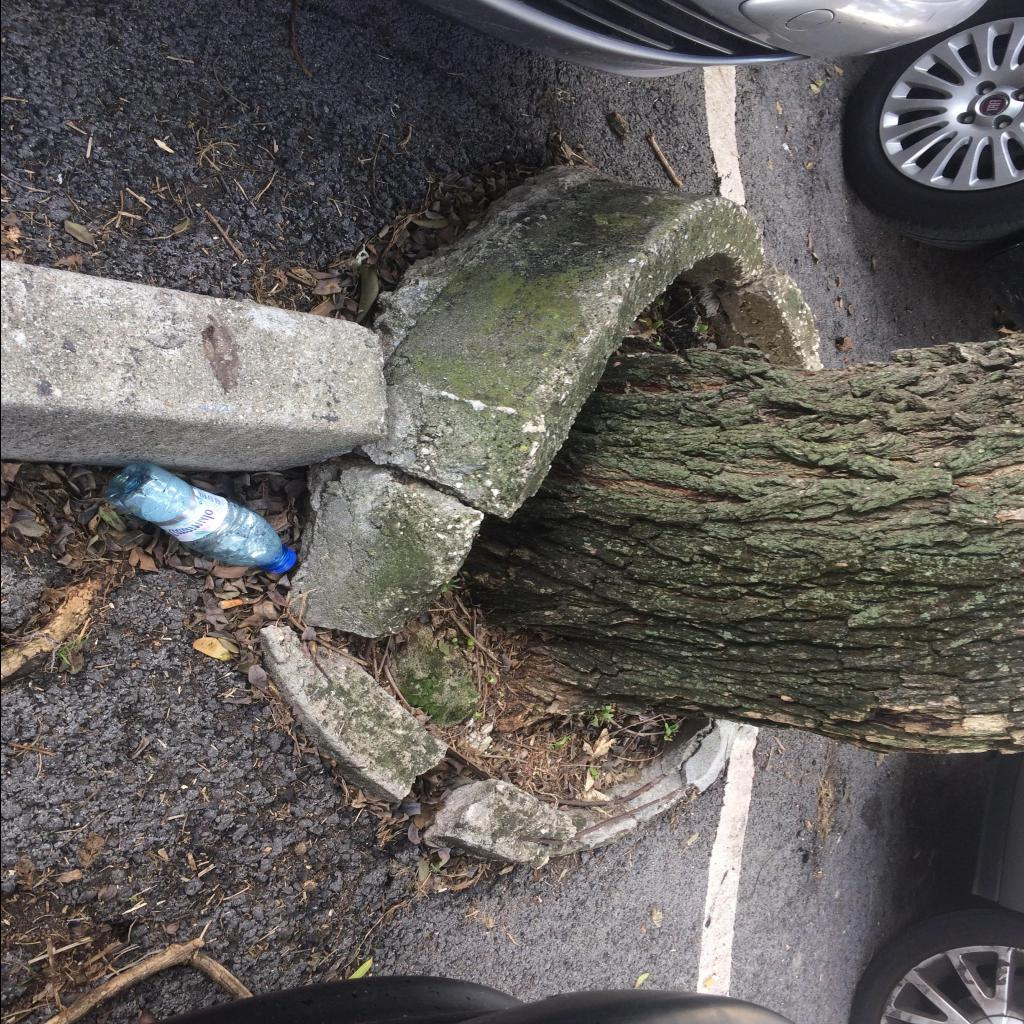Clear plastic bottle: (104, 462, 296, 574)
